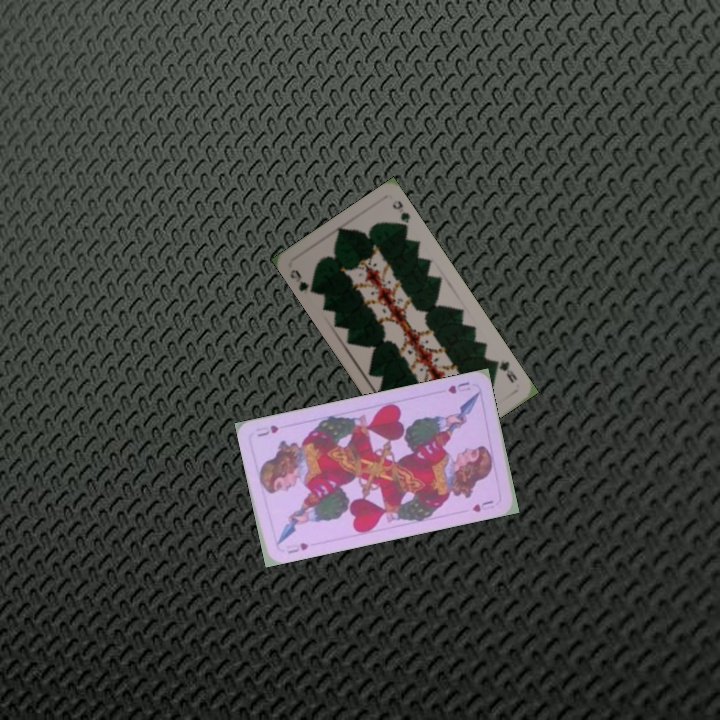G9: (286, 265, 319, 297), (489, 356, 520, 386)
HU: (444, 377, 472, 396), (282, 539, 311, 556)
